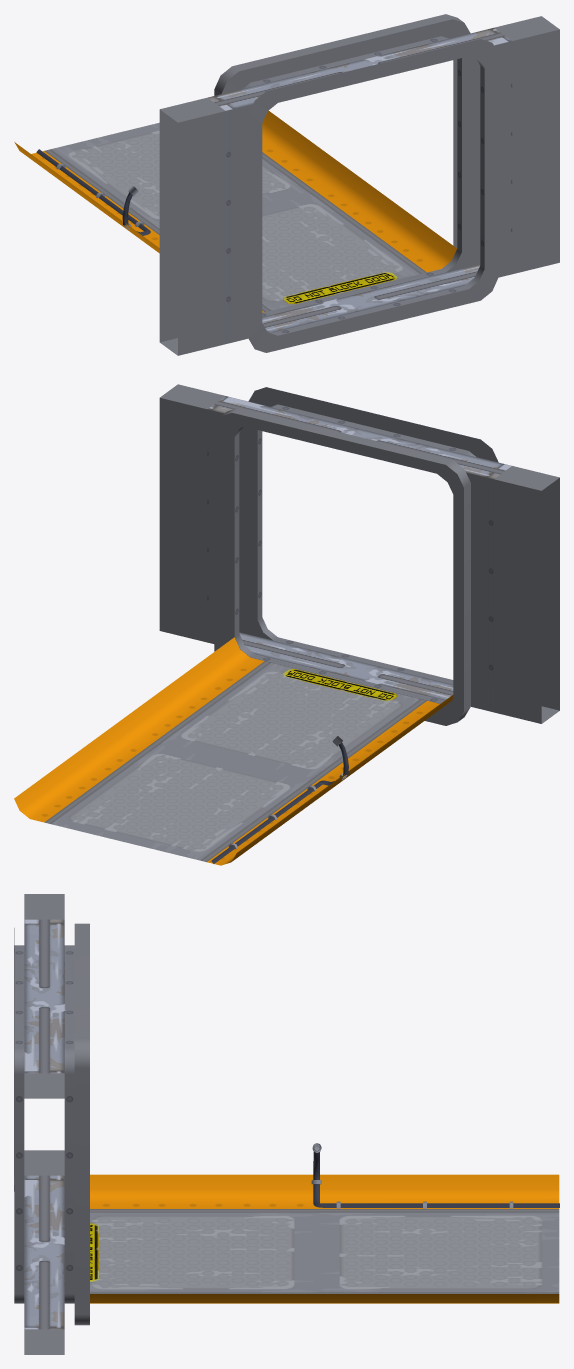
File: obj_building_elevatorfloor.fbx
3 views of the same model, one above another, from view 1: azimuth 30°, elevation 25°; view 2: azimuth 150°, elevation 25°; view 3: azimuth 270°, elevation 25° (orthographic). The views are drawn at different scales.
Parts seen in each view (by area): view 1: elevatorfloor; view 2: elevatorfloor; view 3: elevatorfloor.
Part boxes in pixels (x1=…): elevatorfloor: x1=14, y1=14, x2=559, y2=355; elevatorfloor: x1=14, y1=384, x2=559, y2=865; elevatorfloor: x1=14, y1=894, x2=559, y2=1354.
Bounding box in the file's own units: 24 × 15.71 × 27.05.
